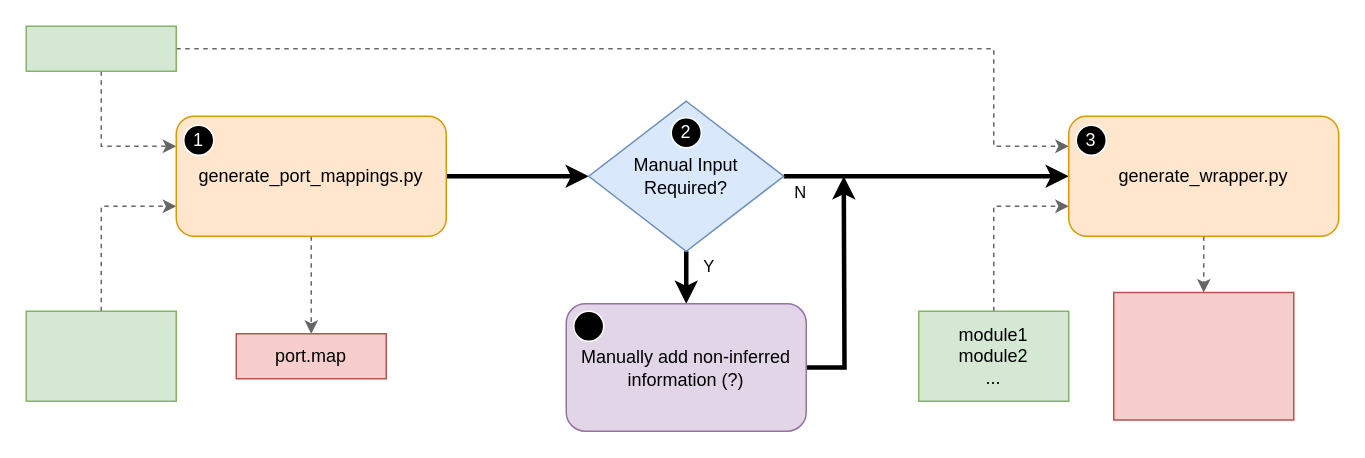
This 1365x458 diagram has some shape labels left out. Here are the shapes that lost their labels. From the top down, the box of each, then its label:
(25, 25, 176, 71): design path
(572, 310, 604, 341): 2a
(25, 310, 176, 401): design1.v design2.v ...
(1112, 291, 1294, 420): module1.cpp module1.hpp module2.cpp module2.hpp ...
